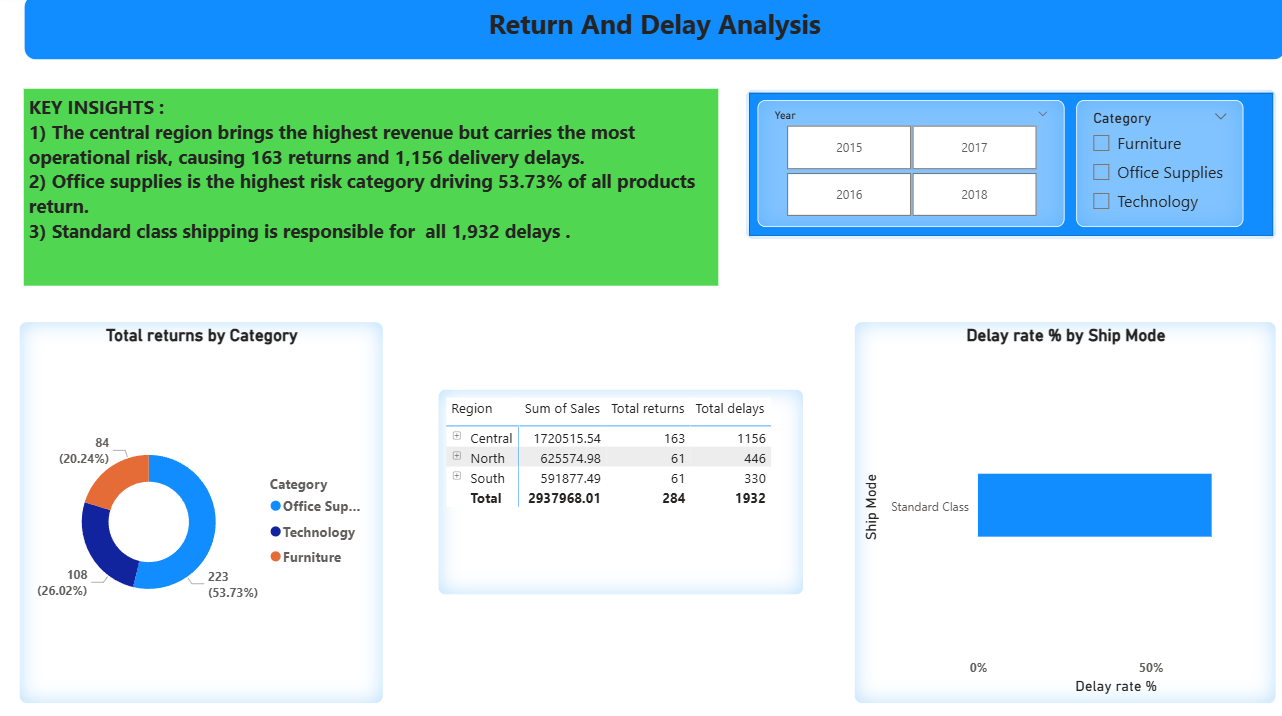

The page's visual inventory and layout, read from the dashboard file:
{"tool":"powerbi","page":{"name":"Page 4","canvas":[1280,720],"ordinal":3},"visuals":[{"type":"shape","box":[741,92.8,529.9,150.6],"z":0},{"type":"donutChart","fields":{"Category":["fact_orders.Category"],"Y":["_Measures.Total returns"]},"box":[18.8,324.1,363.1,380.6],"z":1000},{"type":"clusteredBarChart","fields":{"Category":["fact_orders.Ship Mode"],"Y":["_Measures.Delay rate %"]},"box":[849.9,324.1,420.9,380.6],"z":2000},{"type":"pivotTable","fields":{"Rows":["fact_orders.Region","fact_orders.Sub-Category"],"Values":["Sum(fact_orders.Sales)","_Measures.Total returns","_Measures.Total delays"]},"box":[435.7,391.3,364.4,205.8],"z":3000},{"type":"textbox","box":[24.2,0,1256.1,64.6],"z":4000},{"type":"slicer","fields":{"Values":["fact_orders.Year"]},"box":[754.4,104.9,305.3,126.4],"z":5000},{"type":"slicer","fields":{"Values":["fact_orders.Category"]},"box":[1070.5,104.9,166.8,126.4],"z":6000},{"type":"textbox","box":[24.2,92.8,691.2,196.3],"z":7000}]}

Visuals, with their boxes in screenshot pixels (x1, y1, x2, y2), scaled from the page's 1280x720 canvas onto the 1282x716 screenshot:
shape: 742:92:1273:242
donutChart - fact_orders.Category x _Measures.Total returns: 19:322:382:701
clusteredBarChart - fact_orders.Ship Mode x _Measures.Delay rate %: 851:322:1273:701
pivotTable - fact_orders.Region x fact_orders.Sub-Category: 436:389:801:594
textbox: 24:0:1281:64
slicer - fact_orders.Year: 756:104:1061:230
slicer - fact_orders.Category: 1072:104:1239:230
textbox: 24:92:717:287
